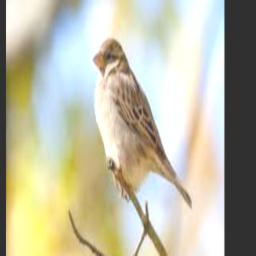Sparrow: (92, 36, 192, 212)
